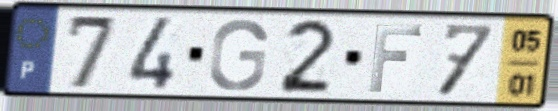2: (279, 16, 339, 96)
4: (125, 13, 180, 93)
7: (435, 21, 496, 99), (64, 12, 119, 91)
F: (365, 22, 426, 95)
G: (206, 17, 271, 93)
